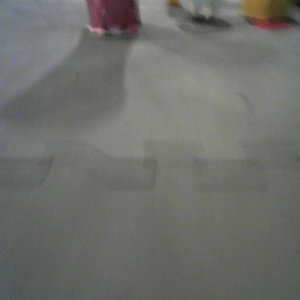right: (207, 1, 300, 89)
